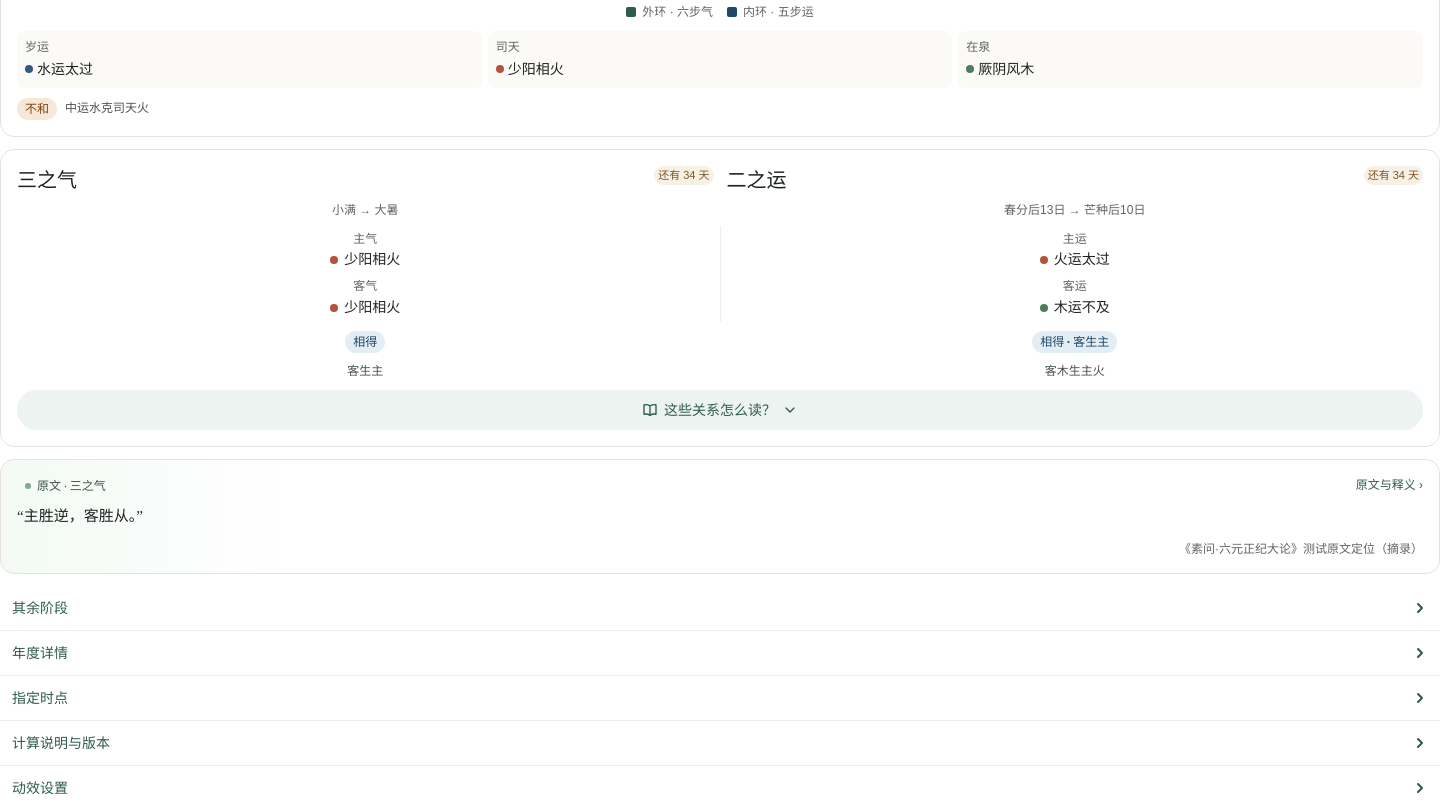
Test case: CurrentYunQiPage › keeps API milliseconds only in calculation details
(page scrolled)
Click the heading "计算说明与版本". click: (61,743)
box: x1=12 y1=735 x2=1428 y2=751
(page scrolled)
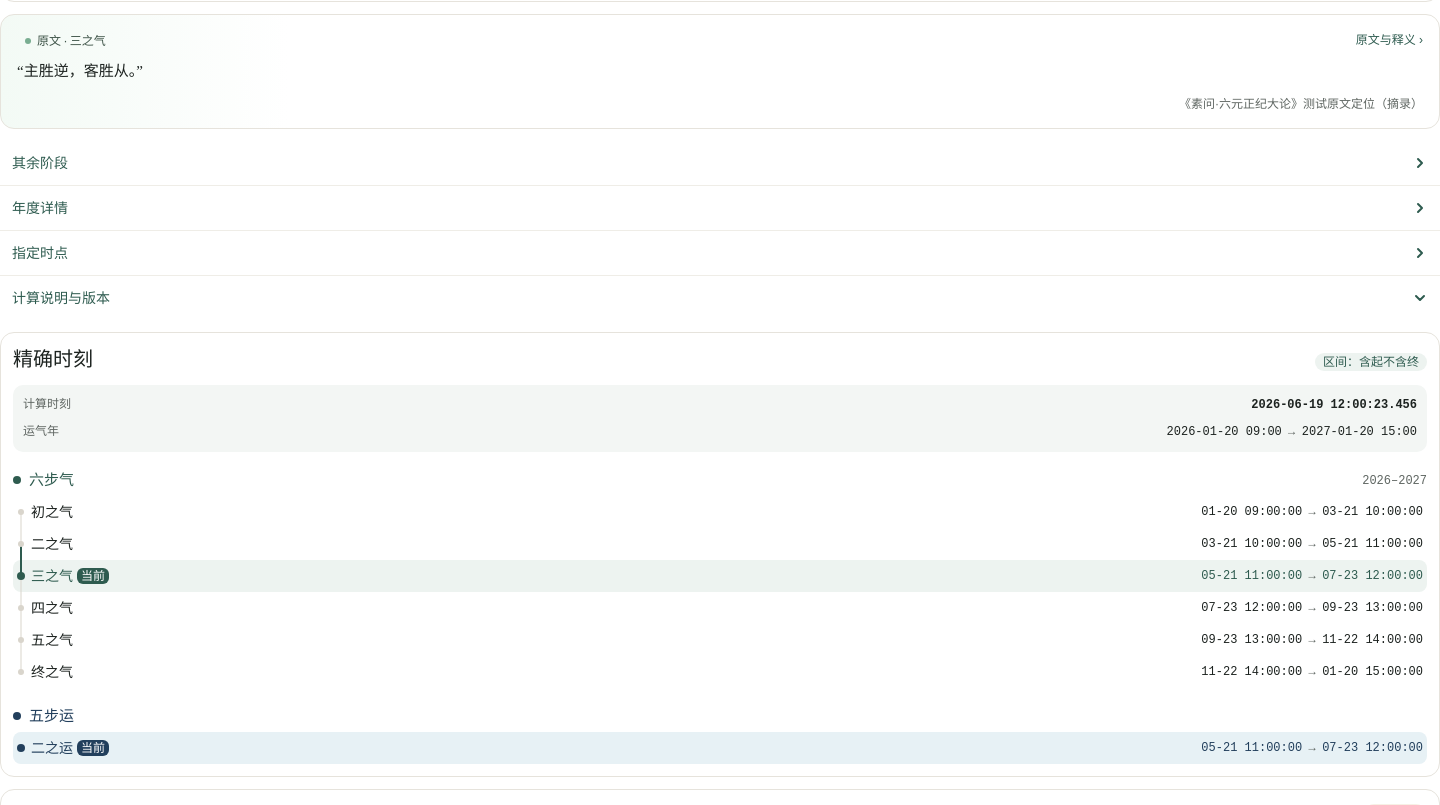
Expected: the text "2026-06-19 12:00:23.456" is shown, x1=1251 y1=398 x2=1417 y2=412
